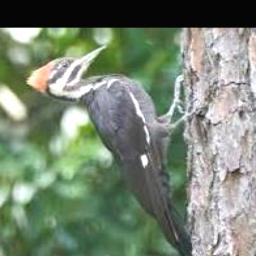Woodpecker: (25, 45, 195, 256)
